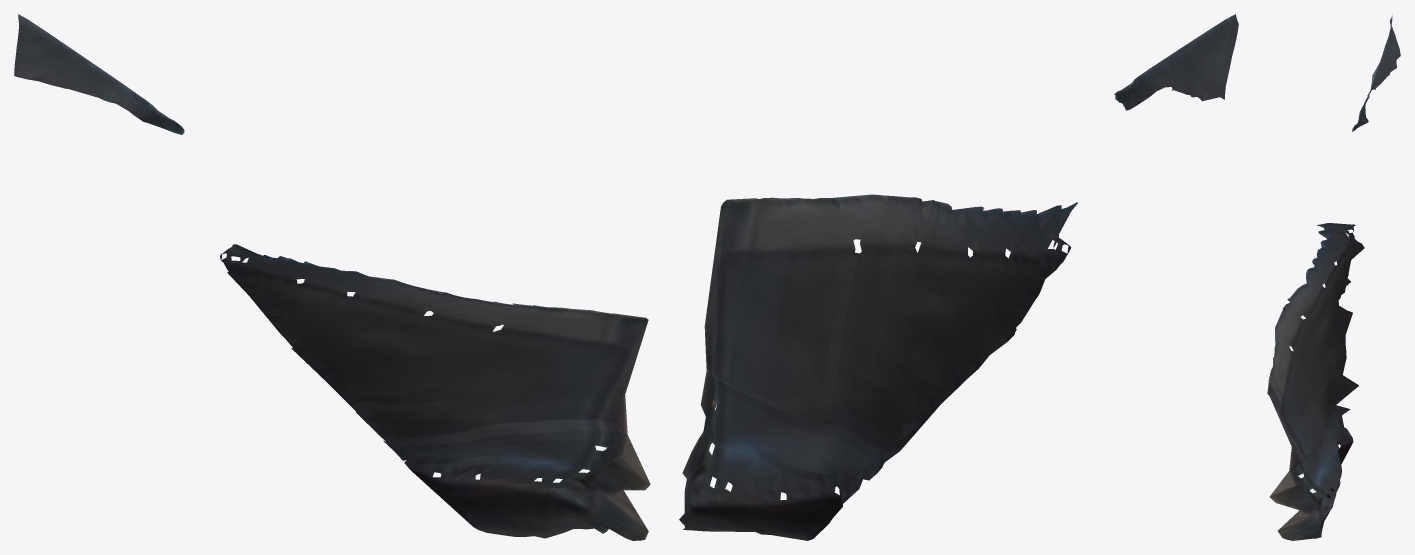
Rendered from observed-surface.glb.
3 views of the same model, side by side, from view 1: azimuth 30°, elevation 25°; view 2: azimuth 150°, elevation 25°; view 3: azimuth 270°, elevation 25° (orthographic). The views are drawn at different scales.
Visible parts, largest first — view 1: geometry_0; view 2: geometry_0; view 3: geometry_0.
Part boxes in pixels (x1=…): geometry_0: x1=14, y1=14, x2=650, y2=540; geometry_0: x1=679, y1=14, x2=1238, y2=540; geometry_0: x1=1267, y1=14, x2=1400, y2=540.
Bounding box in the file's own units: 0.4422 × 0.4717 × 0.1544.
1 material, 1 textured.
